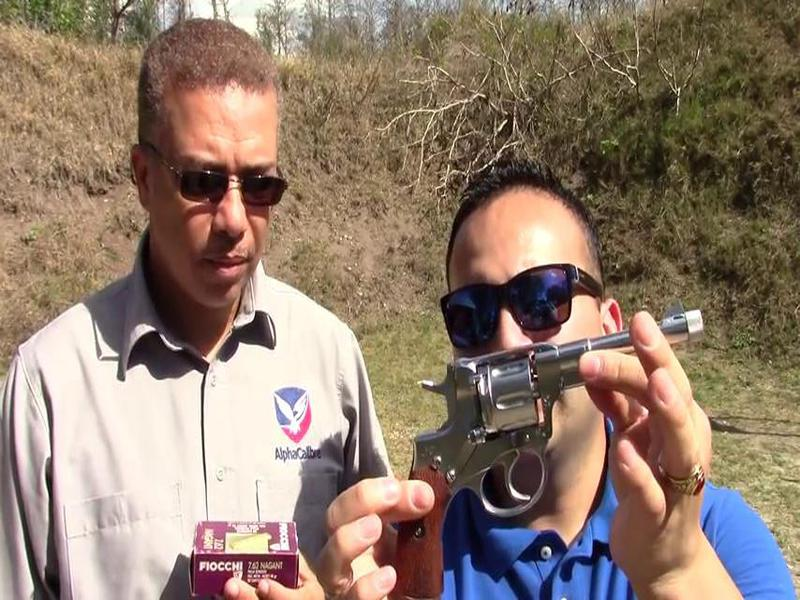Revolver: (400, 289, 710, 600)
